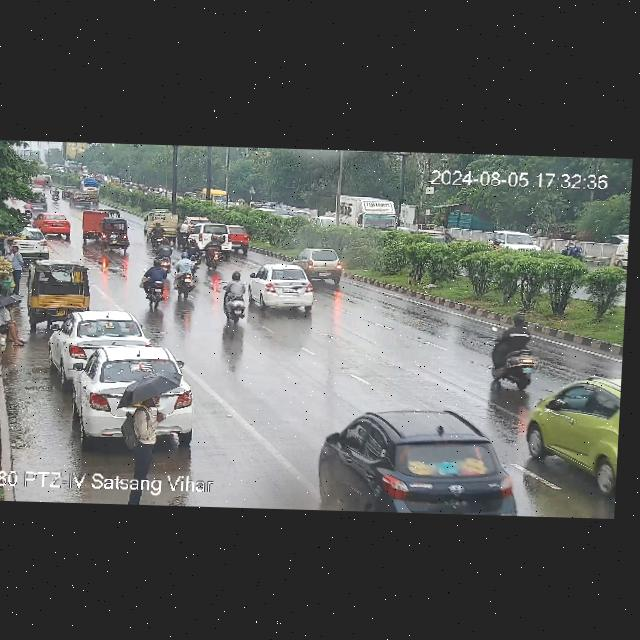car: (314, 410, 522, 517), (80, 348, 199, 446), (529, 384, 621, 493), (63, 309, 148, 390), (27, 264, 92, 311), (251, 260, 309, 305), (299, 247, 346, 285), (492, 226, 547, 255), (189, 221, 235, 254), (102, 217, 136, 252), (35, 210, 74, 236), (81, 210, 110, 243), (227, 223, 251, 254), (615, 232, 629, 270), (71, 193, 91, 208)
motorcycle: (490, 312, 535, 387), (221, 271, 253, 326), (141, 260, 172, 308), (174, 256, 198, 298), (564, 234, 588, 259), (205, 236, 220, 267), (149, 240, 171, 258), (149, 221, 164, 239)
person: (128, 397, 162, 501), (11, 227, 50, 258), (5, 246, 25, 296), (0, 304, 21, 350)
